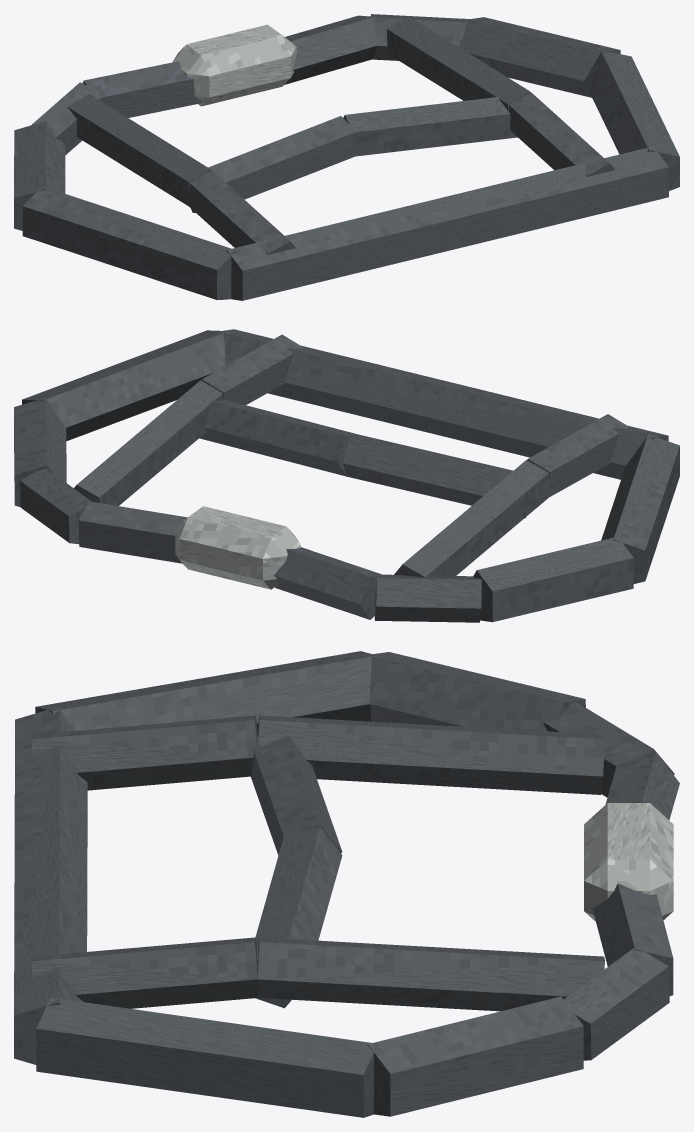
File: five-point_harness.glb
The picture shows the model from 3 angles, top to bottom: view 1: azimuth 30°, elevation 25°; view 2: azimuth 150°, elevation 25°; view 3: azimuth 270°, elevation 25°; orthographic projection. The views are drawn at different scales.
Visible parts, largest first — view 1: block_looped strap 2, block_harness side webbing 0 (×2), block_looped strap 1, block_harness side webbing 1 (×2), block_strap end 1 (×2), block_central strap 1, block_looped strap 4, block_strap keeper, block_looped strap 3, block_central strap 0, block_looped strap 0, block_strap end 0 (×2); view 2: block_looped strap 2, block_harness side webbing 0 (×2), block_looped strap 3, block_strap end 1 (×2), block_looped strap 0, block_strap end 0 (×2), block_harness side webbing 1 (×2), block_strap keeper, block_central strap 0, block_looped strap 1, block_central strap 1, block_looped strap 4; view 3: block_harness side webbing 0 (×2), block_looped strap 3, block_harness side webbing 1 (×2), block_looped strap 2, block_looped strap 4, block_looped strap 1, block_looped strap 0, block_strap end 0 (×2), block_strap keeper, block_strap end 1 (×2), block_central strap 1, block_central strap 0.
Part boxes in pixels (x1,y1,x2,y2): block_looped strap 2: [226, 146, 668, 300]; block_harness side webbing 0 (×2): [67, 16, 530, 206]; block_looped strap 1: [22, 186, 236, 300]; block_harness side webbing 1 (×2): [189, 92, 614, 254]; block_strap end 1 (×2): [82, 15, 377, 117]; block_central strap 1: [343, 97, 517, 156]; block_looped strap 4: [460, 17, 620, 97]; block_strap keeper: [172, 24, 296, 106]; block_looped strap 3: [584, 50, 679, 190]; block_central strap 0: [191, 116, 356, 212]; block_looped strap 0: [14, 121, 65, 230]; block_strap end 0 (×2): [31, 14, 469, 154]; block_looped strap 2: [217, 329, 668, 479]; block_harness side webbing 0 (×2): [74, 380, 549, 577]; block_looped strap 3: [22, 330, 228, 441]; block_strap end 1 (×2): [78, 501, 382, 619]; block_looped strap 0: [473, 536, 633, 622]; block_strap end 0 (×2): [20, 468, 481, 622]; block_harness side webbing 1 (×2): [201, 334, 629, 496]; block_strap keeper: [173, 506, 300, 589]; block_central strap 0: [342, 434, 525, 518]; block_looped strap 1: [601, 434, 679, 583]; block_central strap 1: [199, 400, 361, 476]; block_looped strap 4: [14, 397, 66, 506]; block_harness side webbing 0 (×2): [257, 715, 604, 1011]; block_looped strap 3: [36, 997, 377, 1117]; block_harness side webbing 1 (×2): [31, 715, 258, 1008]; block_looped strap 2: [14, 706, 87, 1064]; block_looped strap 4: [367, 996, 583, 1116]; block_looped strap 1: [35, 651, 377, 731]; block_looped strap 0: [366, 652, 585, 731]; block_strap end 0 (×2): [543, 702, 674, 1060]; block_strap keeper: [584, 803, 673, 921]; block_strap end 1 (×2): [592, 752, 679, 995]; block_central strap 1: [255, 827, 342, 1008]; block_central strap 0: [251, 735, 342, 855].
Size of the model in its own units: 0.2589 by 0.0268 by 0.1719.
1 material, 1 textured.
